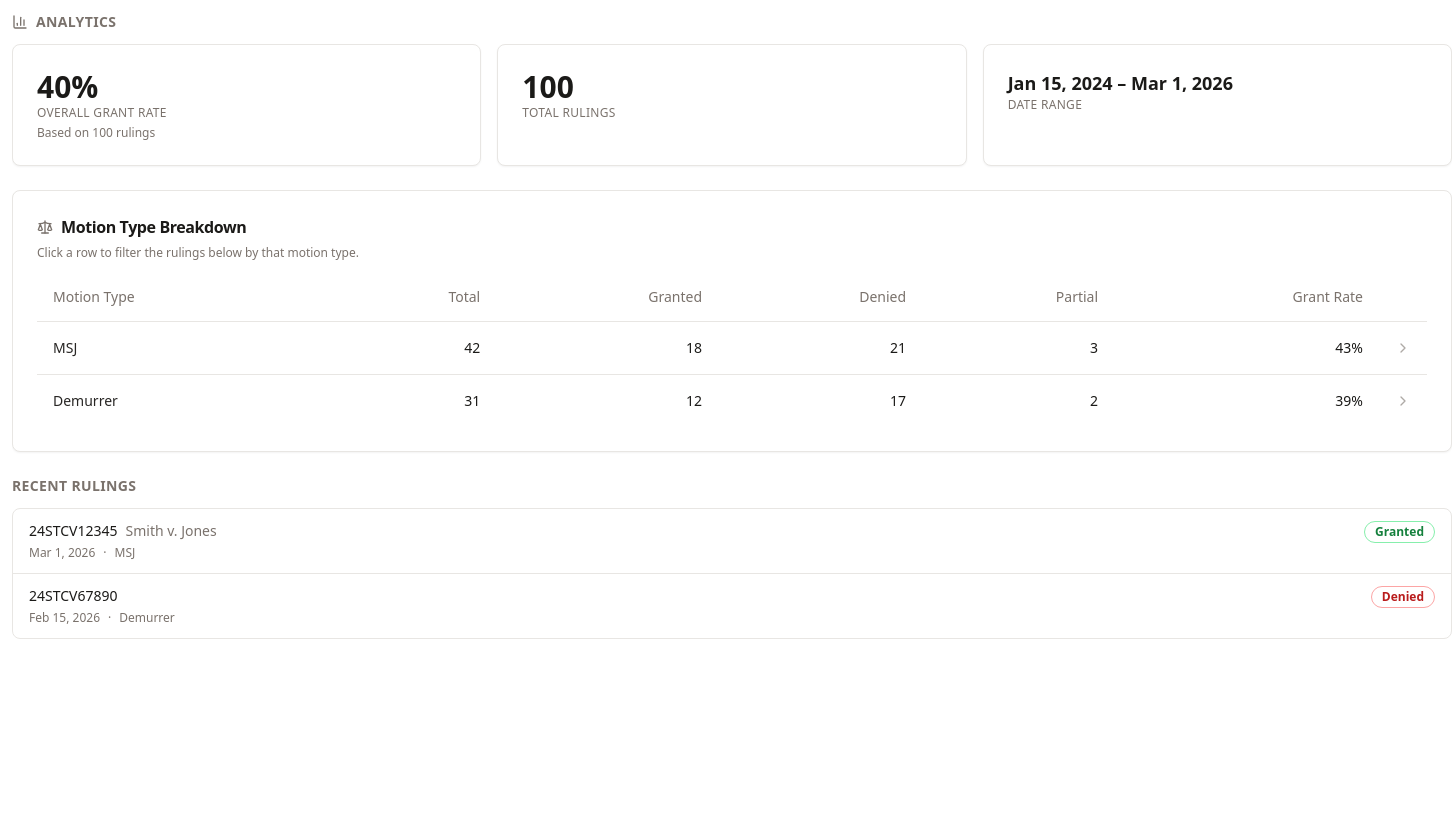
JudgeProfile › clears filter when clicking the clear button in the filter pill
Expected: the 1st text "MSJ" is shown, [53,338,77,356]
# Click "Demurrer" to activate filter
Click the button "Demurrer 31 12 17 2 39%" at (85, 400), box [37,374,1427,426]
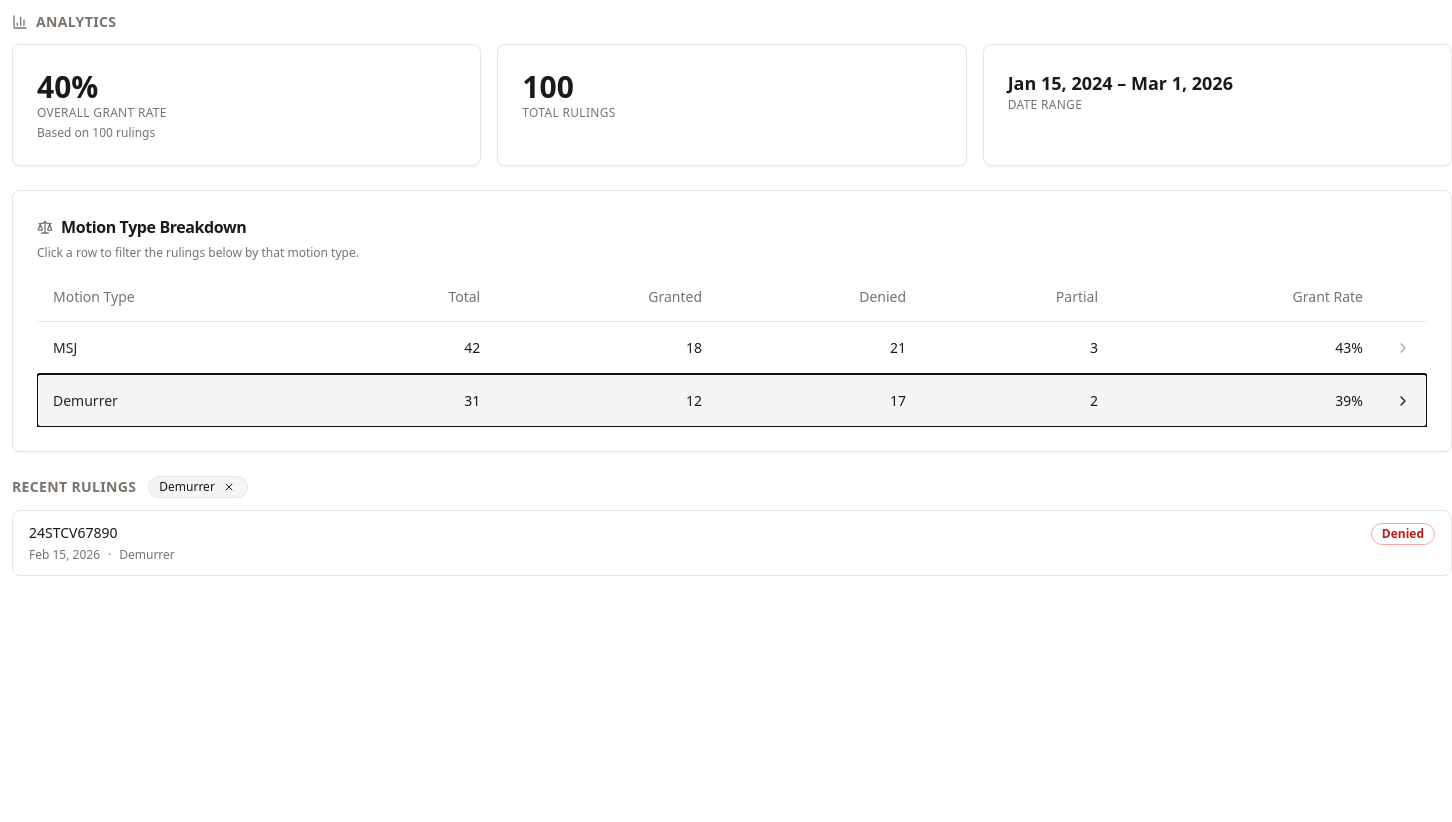
Expected: the element with test id "motion-type-filter-pill" is shown, [148,476,248,498]
# Click the clear button (X) in the filter pill
Click the button named "Clear Demurrer filter" at (229, 486), box [221,478,237,494]
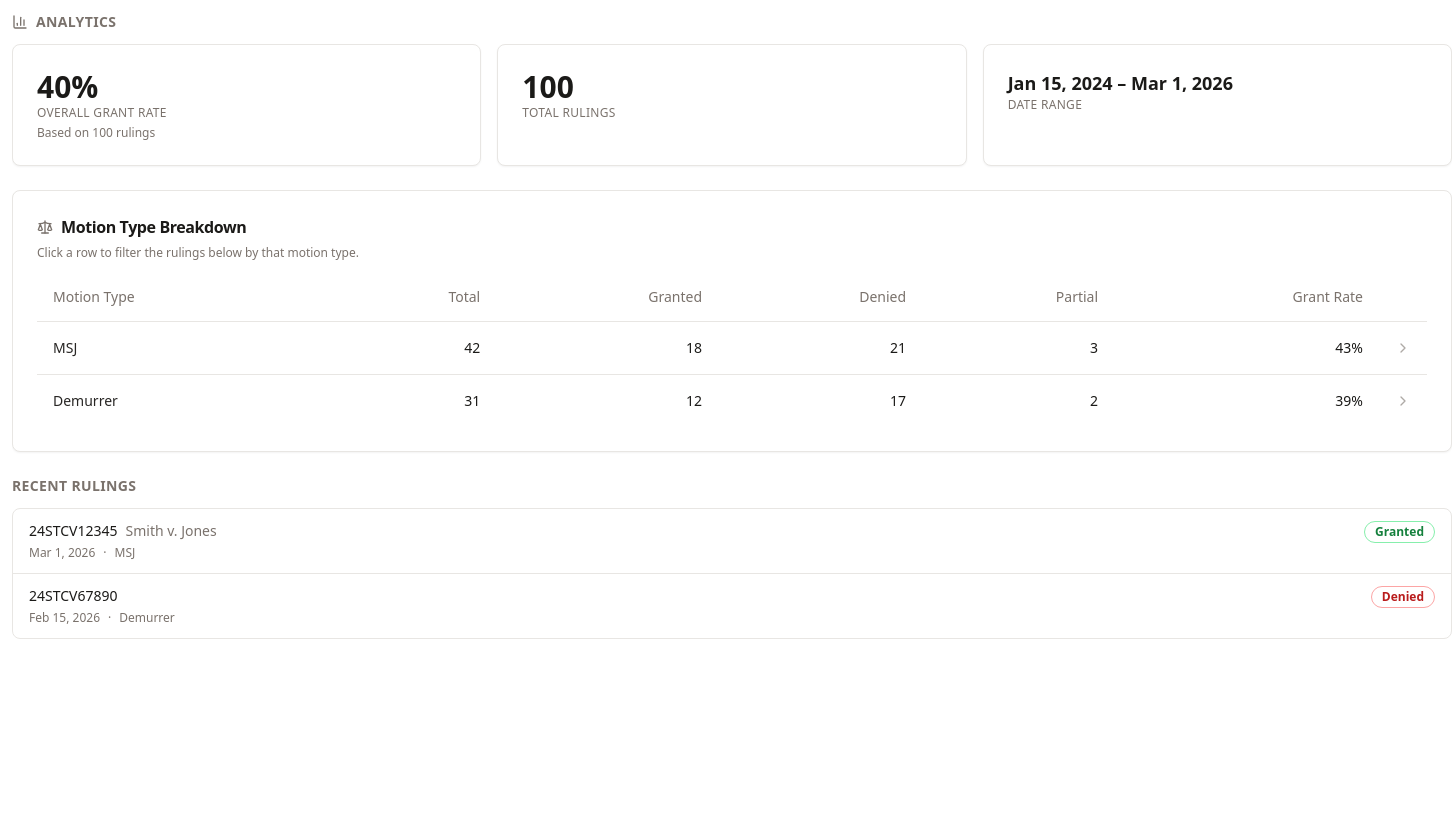
Expected: the element with test id "motion-type-filter-pill" is gone
